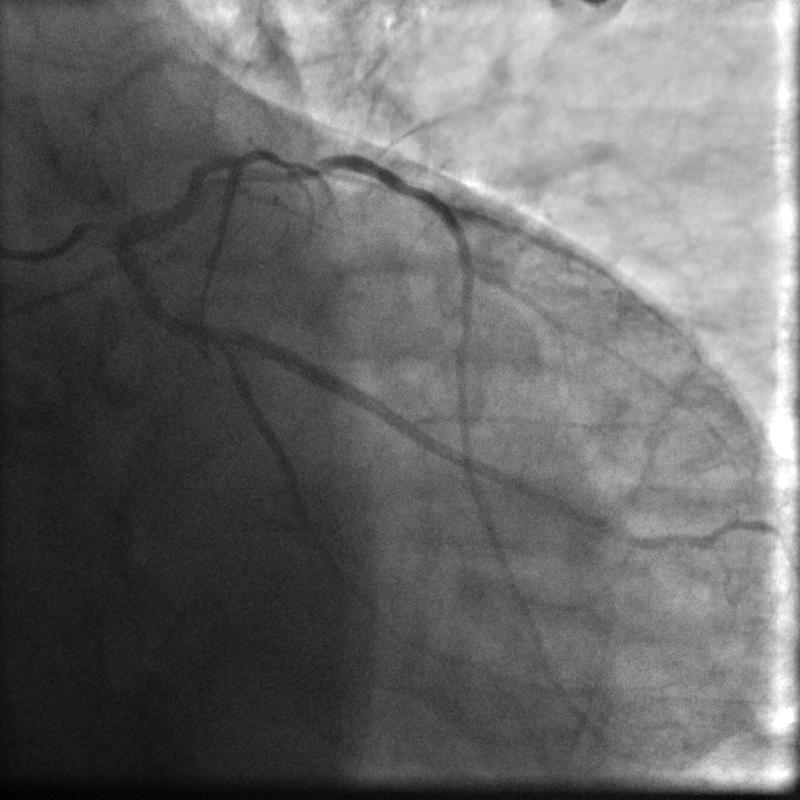Stenosis: (272, 155, 374, 176)
